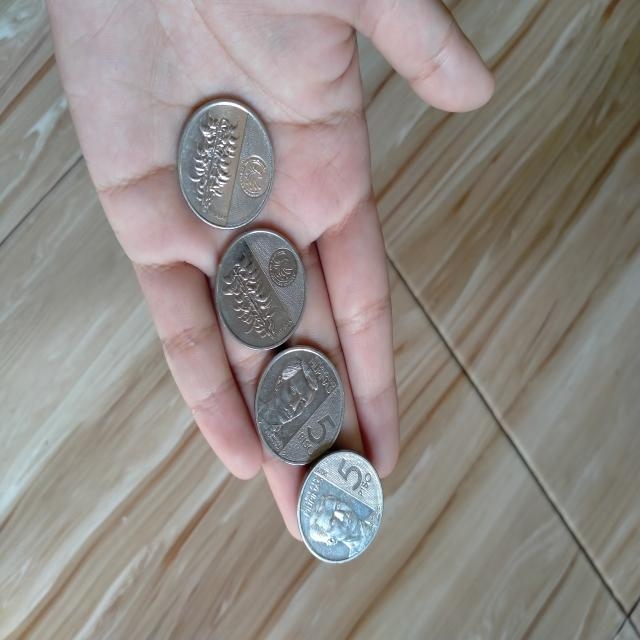5_New_Back: (178, 106, 245, 222), (219, 250, 278, 344)
5_New_Front: (328, 455, 383, 513), (294, 406, 342, 466)
